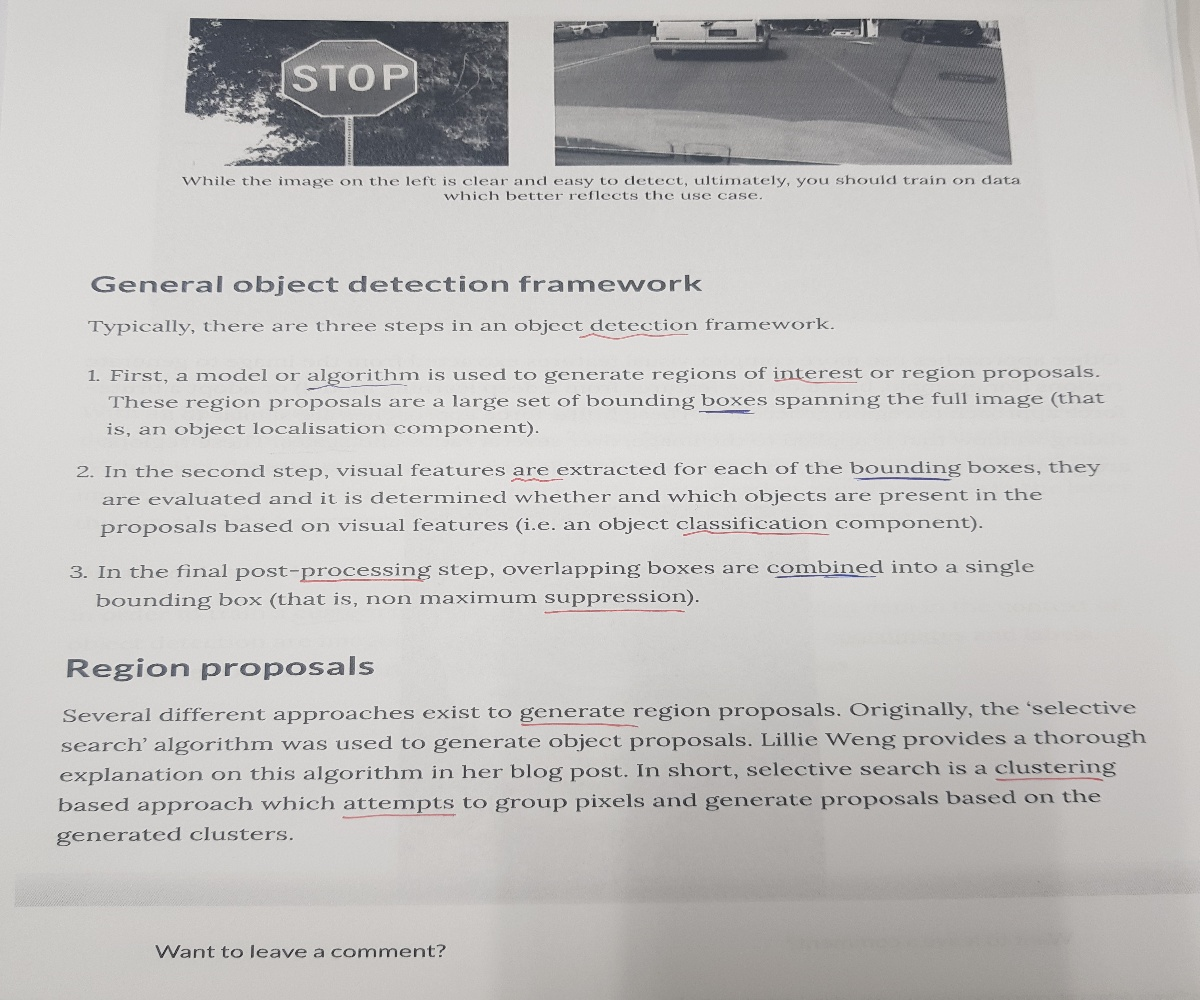underline: (538, 605, 688, 618), (677, 528, 833, 540), (994, 774, 1106, 788), (575, 330, 687, 343), (297, 575, 431, 585), (849, 473, 951, 485), (517, 719, 639, 729), (304, 382, 413, 393), (338, 811, 457, 821), (769, 571, 876, 582), (773, 376, 858, 388), (506, 475, 567, 488), (697, 405, 756, 417)
